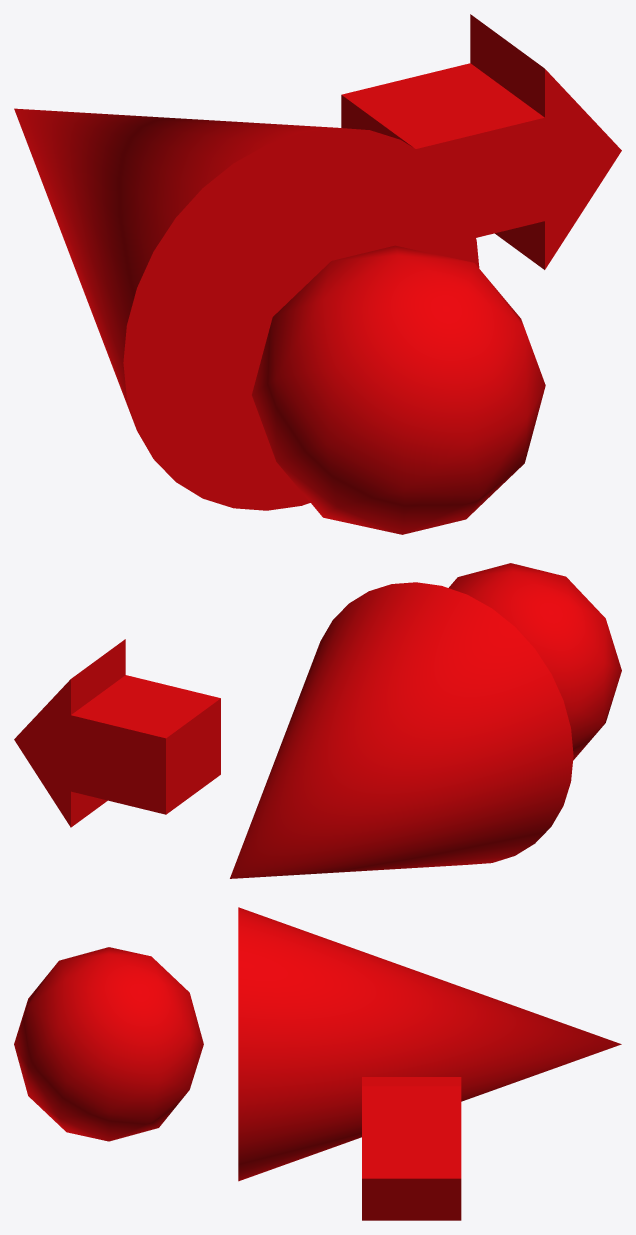
The model's file is person_arrow.glb.
3 views of the same model, one above another, from view 1: azimuth 30°, elevation 25°; view 2: azimuth 150°, elevation 25°; view 3: azimuth 270°, elevation 25° (orthographic). The views are drawn at different scales.
Visible parts, largest first — view 1: Icosphere; view 2: Icosphere; view 3: Icosphere.
Boxes of the visible parts, x1,y1,x2,y2 form: Icosphere: (14, 14, 621, 534); Icosphere: (14, 563, 621, 878); Icosphere: (14, 907, 621, 1220).
Bounding box in the file's own units: 1.31 × 0.7875 × 1.74.
